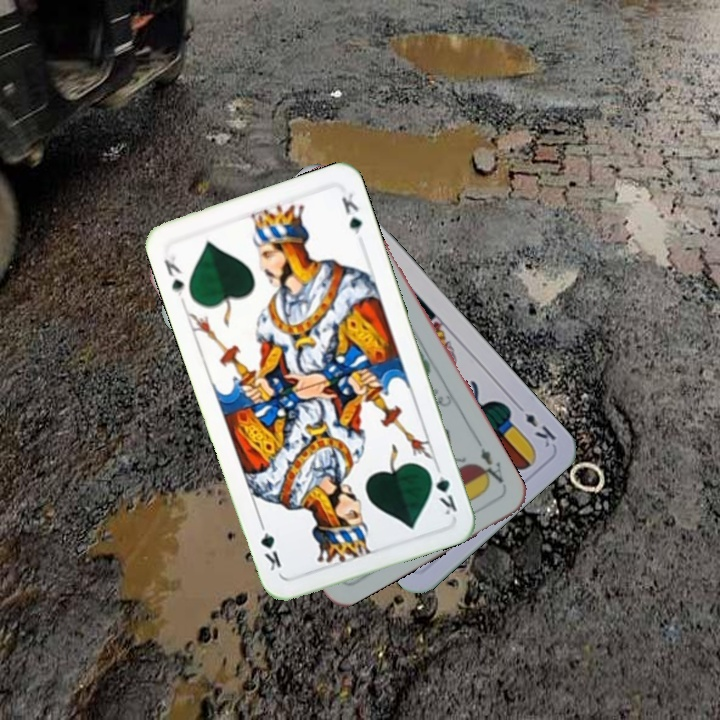EA: (473, 437, 509, 490)
EK: (511, 399, 559, 450)
GK: (424, 461, 460, 518), (160, 251, 187, 304)
